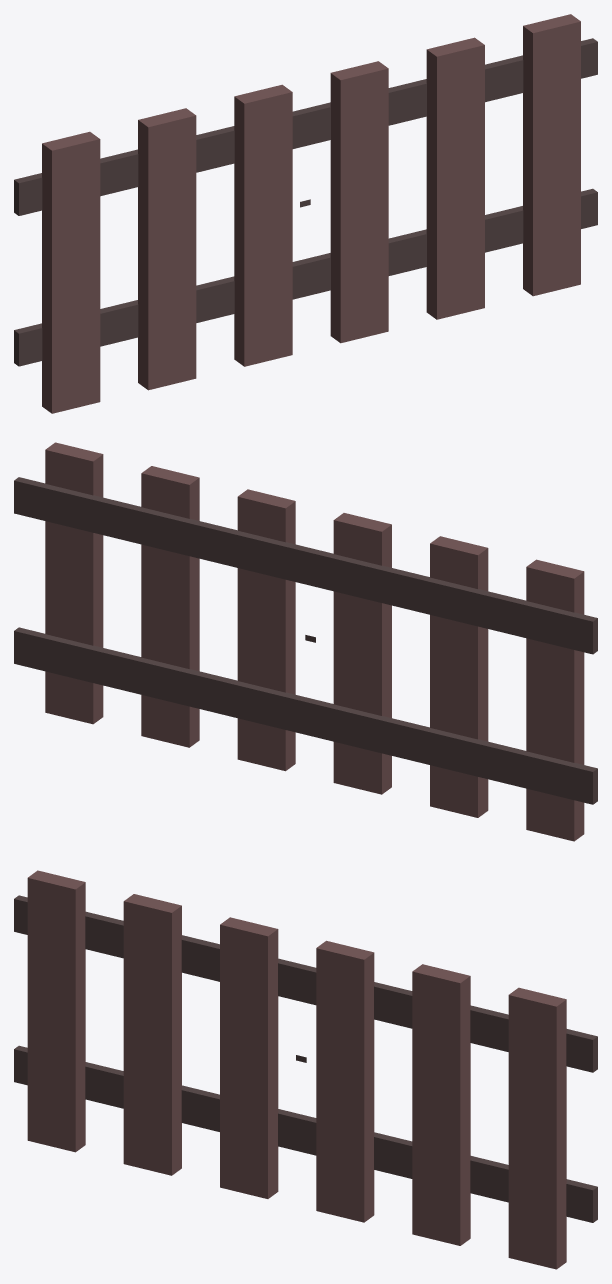
Rendered from HalfFence.fbx.
3 views of the same model, one above another, from view 1: azimuth 30°, elevation 25°; view 2: azimuth 150°, elevation 25°; view 3: azimuth 330°, elevation 25° (orthographic).
Visible parts, largest first — view 1: Cube.001; view 2: Cube.001; view 3: Cube.001.
Part boxes in pixels (x1,y1,x2,y2): Cube.001: (14, 14, 597, 413); Cube.001: (14, 442, 597, 841); Cube.001: (14, 870, 597, 1269).
Bounding box in the file's own units: 205 × 89.16 × 9.16.
